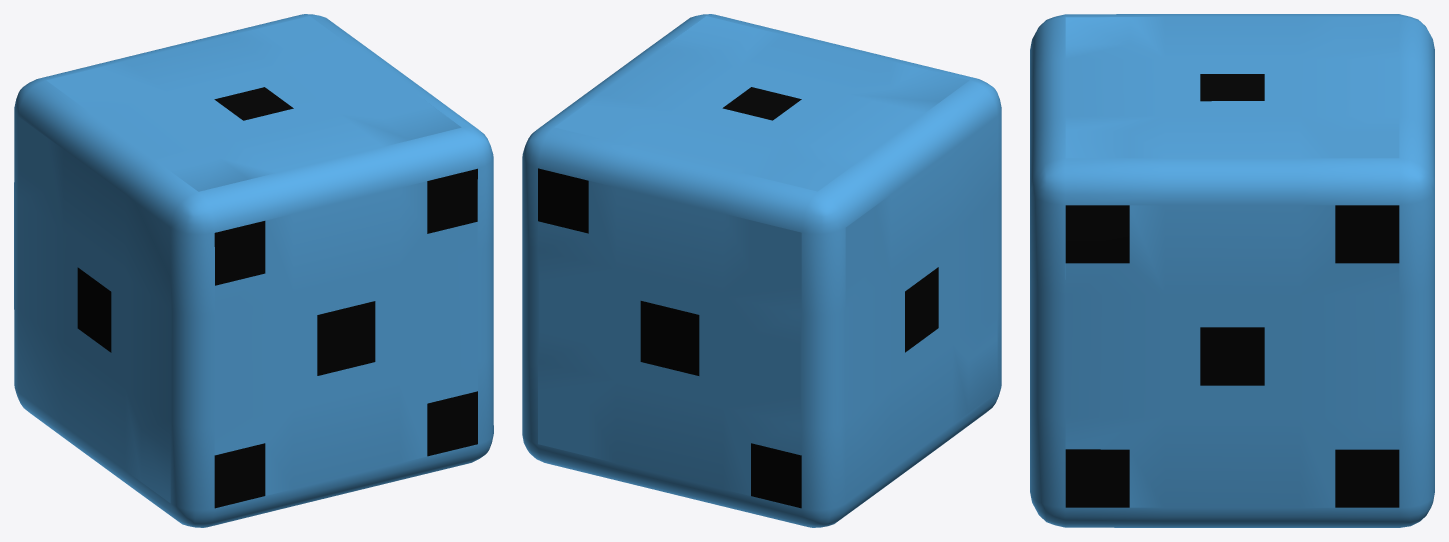
Rendered from Dice_ver18.fbx.
3 renders of one model, left to right at view 1: azimuth 30°, elevation 25°; view 2: azimuth 150°, elevation 25°; view 3: azimuth 270°, elevation 25°, orthographic. The views are drawn at different scales.
Parts seen in each view (by area): view 1: Even.001; view 2: Even.001; view 3: Even.001.
Part boxes in pixels (x1,y1,x2,y2): Even.001: [14, 14, 493, 527]; Even.001: [522, 14, 1001, 527]; Even.001: [1030, 14, 1434, 527].
Size of the model in its own units: 200 by 200 by 200.
